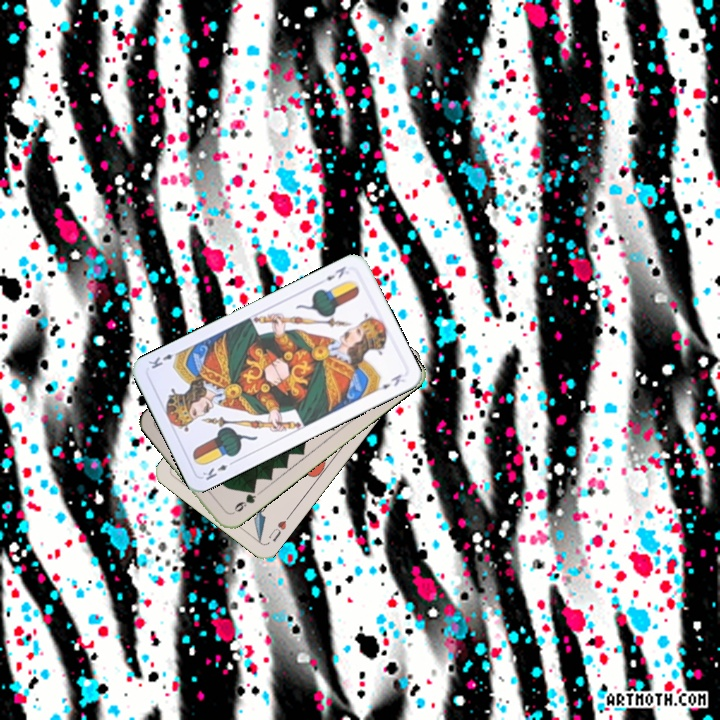EK: (198, 456, 238, 483), (322, 262, 348, 283)
G9: (227, 484, 259, 517)
HU: (264, 511, 293, 545)
